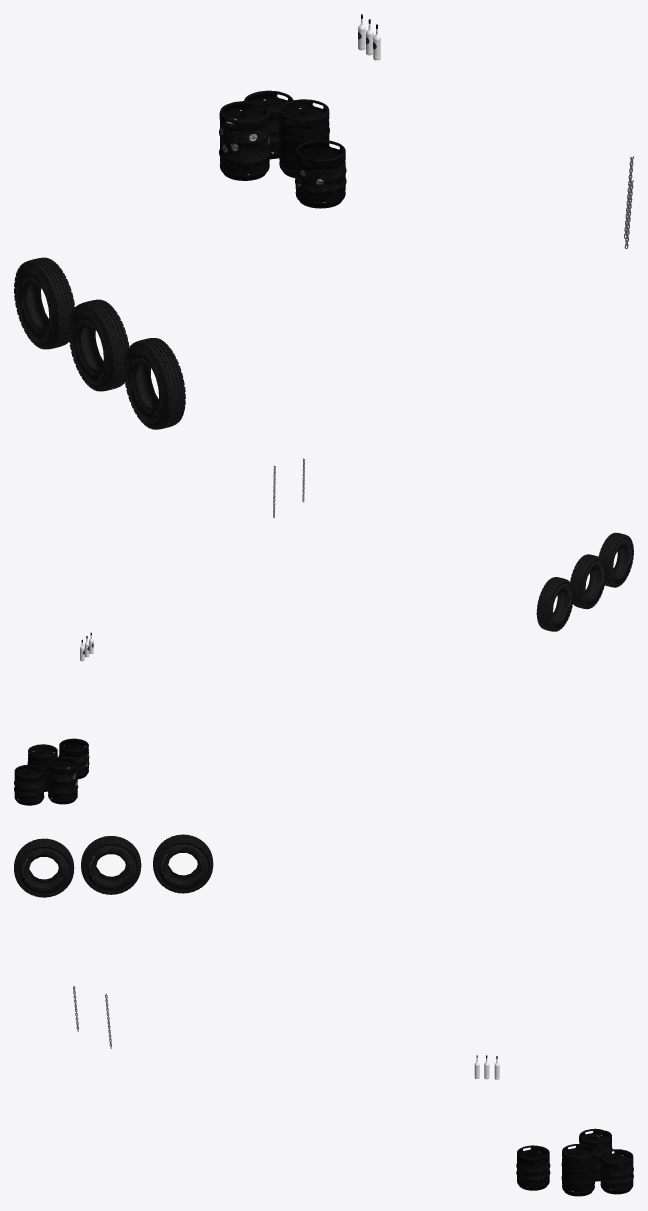
The model's file is bar_props.glb.
3 views of the same model, one above another, from view 1: azimuth 30°, elevation 25°; view 2: azimuth 150°, elevation 25°; view 3: azimuth 270°, elevation 25° (orthographic). The views are drawn at different scales.
Parts seen in each view (by area): view 1: Michelin Truck Tire.001, Michelin Truck Tire.002, Michelin Truck Tire.004, Circle, Circle.008, Circle.007, Circle.005; view 2: Michelin Truck Tire.004, Michelin Truck Tire.002, Michelin Truck Tire.001, Circle, Circle.005, Circle.008, Circle.007; view 3: Michelin Truck Tire.002, Michelin Truck Tire.004, Michelin Truck Tire.001, Circle.007, Circle.005, Circle.008, Circle.
Boxes of the visible parts, x1,y1,x2,y2 form: Michelin Truck Tire.001: (124,338,185,429); Michelin Truck Tire.002: (68,299,129,391); Michelin Truck Tire.004: (14,257,74,349); Circle: (219,101,270,180); Circle.008: (295,140,346,208); Circle.007: (278,99,329,178); Circle.005: (244,90,293,159); Michelin Truck Tire.004: (536,577,573,631); Michelin Truck Tire.002: (570,554,606,609); Michelin Truck Tire.001: (598,532,633,587); Circle: (47,756,78,804); Circle.005: (14,764,44,805); Circle.008: (58,738,89,779); Circle.007: (27,744,57,791); Michelin Truck Tire.002: (81,836,141,894); Michelin Truck Tire.004: (153,834,213,893); Michelin Truck Tire.001: (14,838,74,897); Circle.007: (561,1144,595,1196); Circle.005: (600,1149,633,1194); Circle.008: (516,1145,550,1190); Circle: (579,1128,612,1181).
Size of the model in its own units: 7.88 by 3.61 by 10.85.
Materials: 17 (9 with a texture image).
